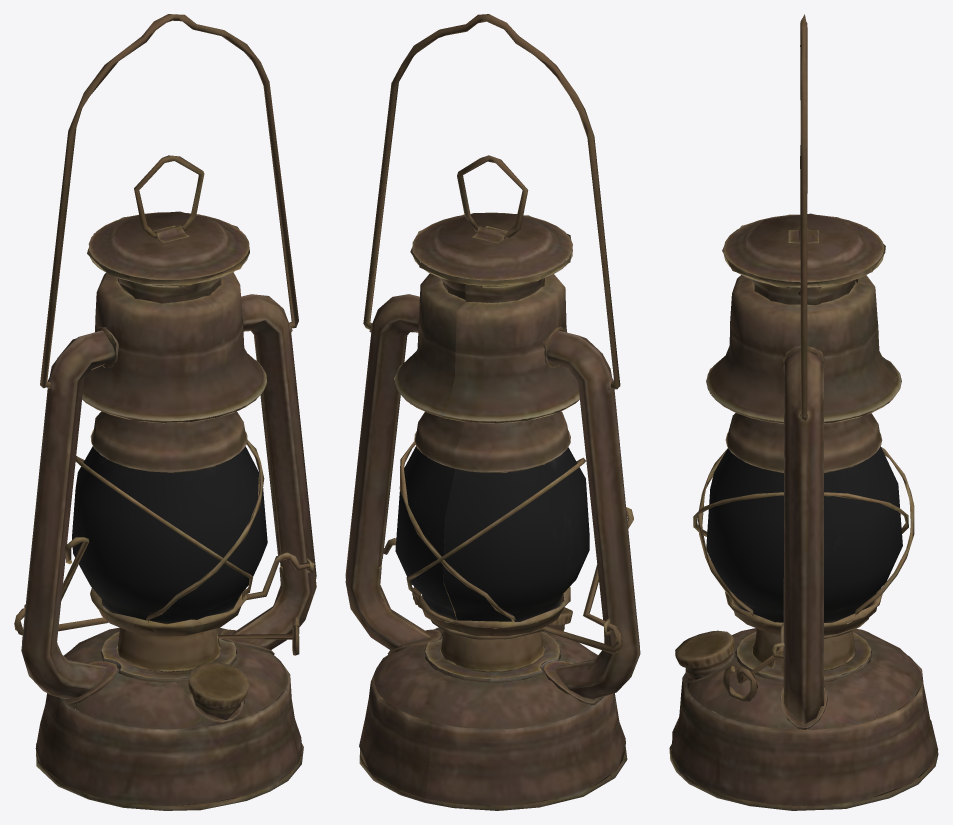
Rendered from lantern.glb.
The picture shows the model from 3 angles, left to right: view 1: azimuth 30°, elevation 25°; view 2: azimuth 150°, elevation 25°; view 3: azimuth 270°, elevation 25°; orthographic projection.
Visible parts, largest first — view 1: Lantern, Lantern_glass; view 2: Lantern, Lantern_glass; view 3: Lantern, Lantern_glass.
Part boxes in pixels (x1,y1,x2,y2): Lantern: (14, 14, 316, 810); Lantern_glass: (72, 446, 267, 622); Lantern: (345, 14, 640, 810); Lantern_glass: (395, 446, 589, 621); Lantern: (669, 14, 938, 810); Lantern_glass: (706, 446, 902, 622).
Size of the model in its own units: 0.1083 by 0.26 by 0.086.
2 materials, 2 textured.
